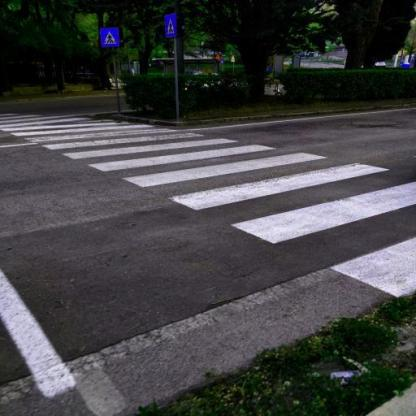crosswalk: (109, 149, 399, 217)
